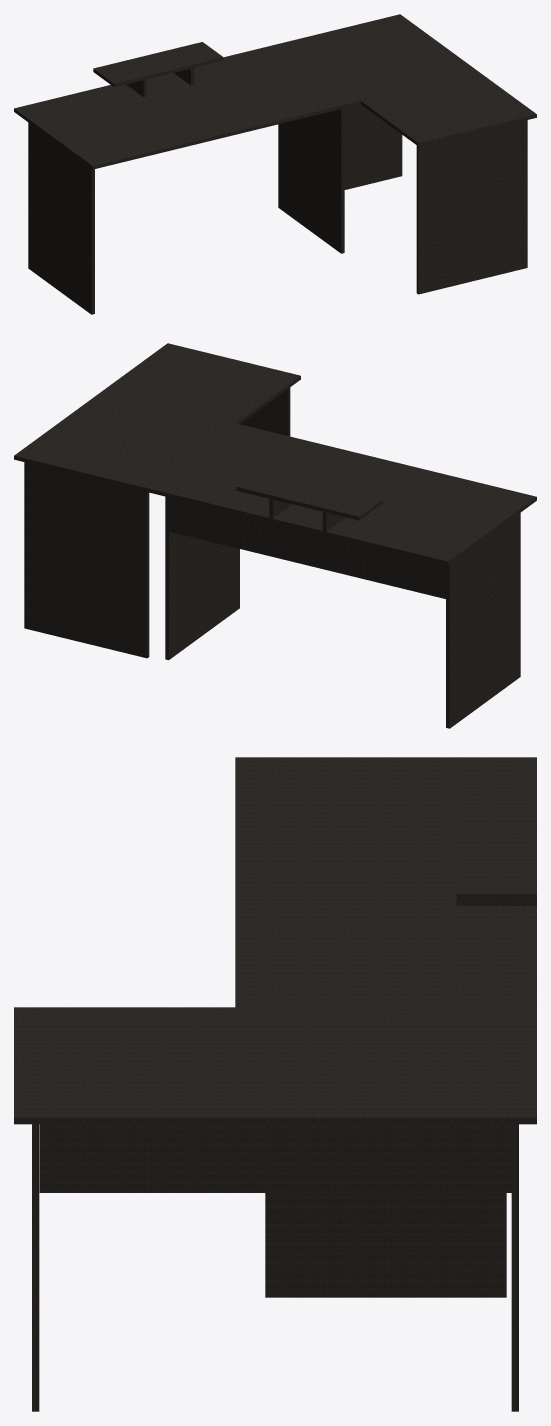
The model's file is masa_ar.glb.
The picture shows the model from 3 angles, top to bottom: view 1: azimuth 30°, elevation 25°; view 2: azimuth 150°, elevation 25°; view 3: azimuth 270°, elevation 25°; orthographic projection. The views are drawn at different scales.
Visible parts, largest first — view 1: MasaTabla_147cm_75cm-1_-_Part, MasaAyak_80cm_60cm_x4-3_-_Part, MasaTabla_130cm_65cm-1_-_Part, MasaAyak_80cm_60cm_x4-1_-_Part, MasaAyak_80cm_60cm_x4-2_-_Part, MasaAyak_80cm_60cm_x4-4_-_Part, MasaMonitor_V2_60cm_24cm-1_-_Part; view 2: MasaTabla_147cm_75cm-1_-_Part, MasaAyak_80cm_60cm_x4-4_-_Part, MasaTabla_130cm_65cm-1_-_Part, MasaAyak_80cm_60cm_x4-1_-_Part, MasaEtek_20cm_138cm-1_-_Part, MasaAyak_80cm_60cm_x4-2_-_Part, MasaMonitor_V2_60cm_24cm-1_-_Part, MasaAyak_80cm_60cm_x4-3_-_Part; view 3: MasaTabla_147cm_75cm-1_-_Part, MasaTabla_130cm_65cm-1_-_Part, MasaEtek_20cm_117cm-1_-_Part, MasaAyak_80cm_60cm_x4-2_-_Part, MasaMonitor_V2_60cm_24cm-1_-_Part, MasaAyak_80cm_60cm_x4-3_-_Part, MasaAyak_80cm_60cm_x4-4_-_Part.
Boxes of the visible parts, box(x1,y1,x2,y2) form: MasaTabla_147cm_75cm-1_-_Part: box(14, 43, 360, 169); MasaAyak_80cm_60cm_x4-3_-_Part: box(416, 120, 527, 294); MasaTabla_130cm_65cm-1_-_Part: box(282, 14, 536, 146); MasaAyak_80cm_60cm_x4-1_-_Part: box(28, 122, 94, 314); MasaAyak_80cm_60cm_x4-2_-_Part: box(278, 108, 344, 253); MasaAyak_80cm_60cm_x4-4_-_Part: box(344, 104, 402, 189); MasaMonitor_V2_60cm_24cm-1_-_Part: box(93, 42, 223, 87); MasaTabla_147cm_75cm-1_-_Part: box(147, 423, 536, 565); MasaAyak_80cm_60cm_x4-4_-_Part: box(24, 462, 149, 658); MasaTabla_130cm_65cm-1_-_Part: box(14, 343, 300, 491); MasaAyak_80cm_60cm_x4-1_-_Part: box(446, 513, 520, 728); MasaEtek_20cm_138cm-1_-_Part: box(169, 497, 445, 598); MasaAyak_80cm_60cm_x4-2_-_Part: box(165, 496, 239, 659); MasaMonitor_V2_60cm_24cm-1_-_Part: box(236, 469, 382, 520); MasaAyak_80cm_60cm_x4-3_-_Part: box(240, 387, 290, 436); MasaTabla_147cm_75cm-1_-_Part: box(235, 757, 536, 1007); MasaTabla_130cm_65cm-1_-_Part: box(14, 1007, 536, 1124); MasaEtek_20cm_117cm-1_-_Part: box(39, 1124, 511, 1192); MasaAyak_80cm_60cm_x4-2_-_Part: box(265, 1193, 506, 1297); MasaMonitor_V2_60cm_24cm-1_-_Part: box(456, 792, 536, 900); MasaAyak_80cm_60cm_x4-3_-_Part: box(32, 1124, 39, 1411); MasaAyak_80cm_60cm_x4-4_-_Part: box(511, 1124, 518, 1411).
Bounding box in the file's own units: 2.12 × 0.926 × 1.3.
Materials: 11 (11 with a texture image).
